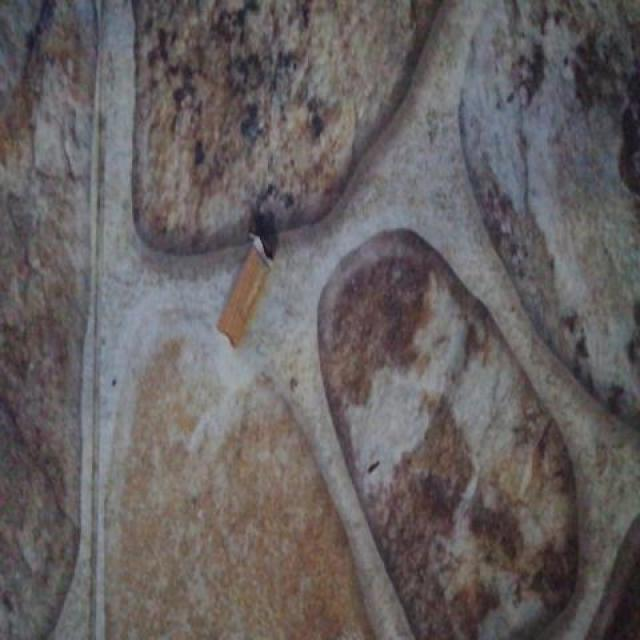non-organic waste: (213, 226, 278, 354)
